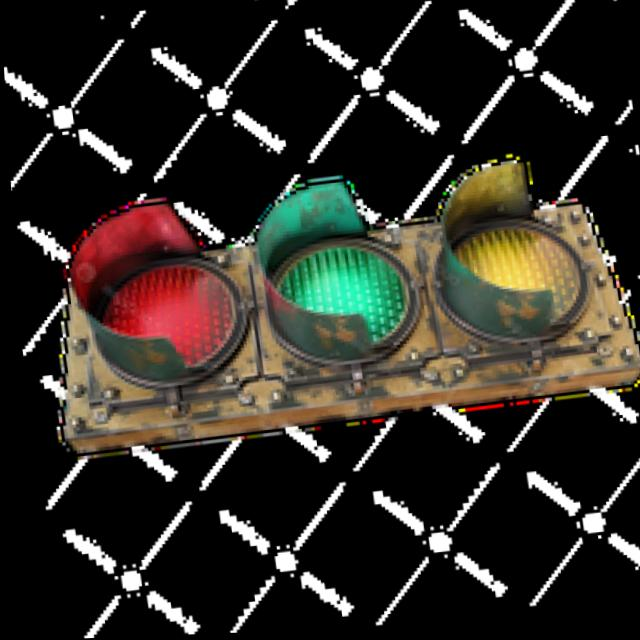green_light: (216, 156, 449, 378)
red_light: (49, 194, 277, 399)
yellow_light: (416, 150, 640, 376)
